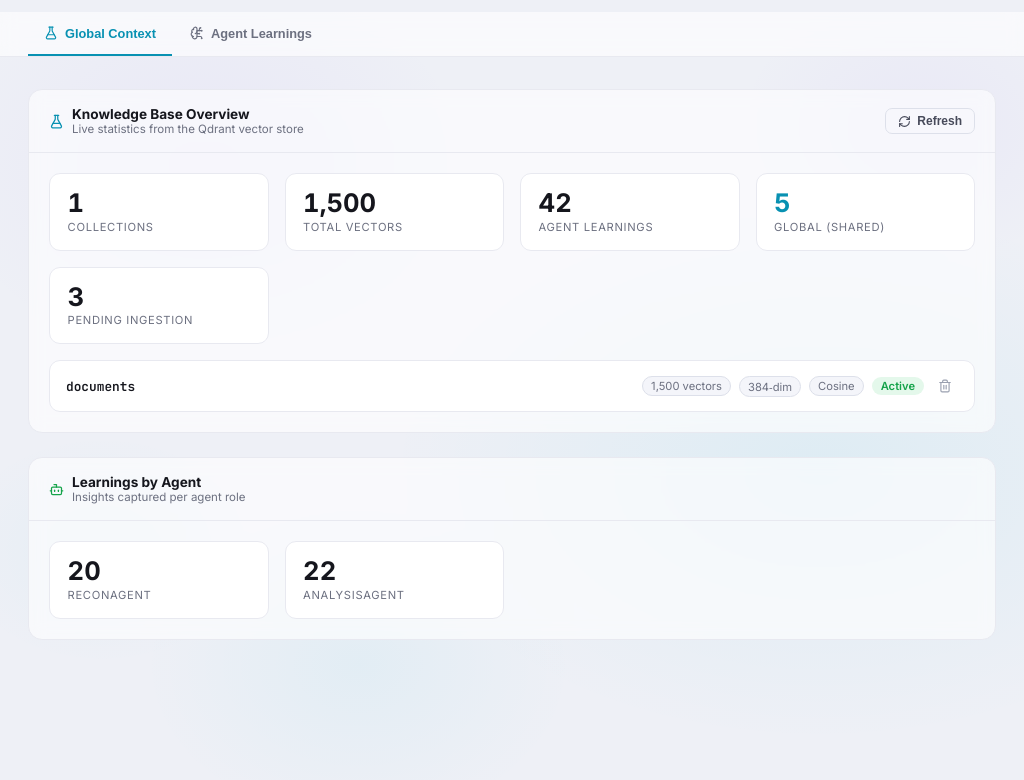
Scenario: KnowledgeBase tab switching › switches to Agent Learnings tab when clicked
The width and height of the screenshot is (1024, 780).
Step 1. Click the button "Agent Learnings" → x=251, y=34, box [174,12,328,56]
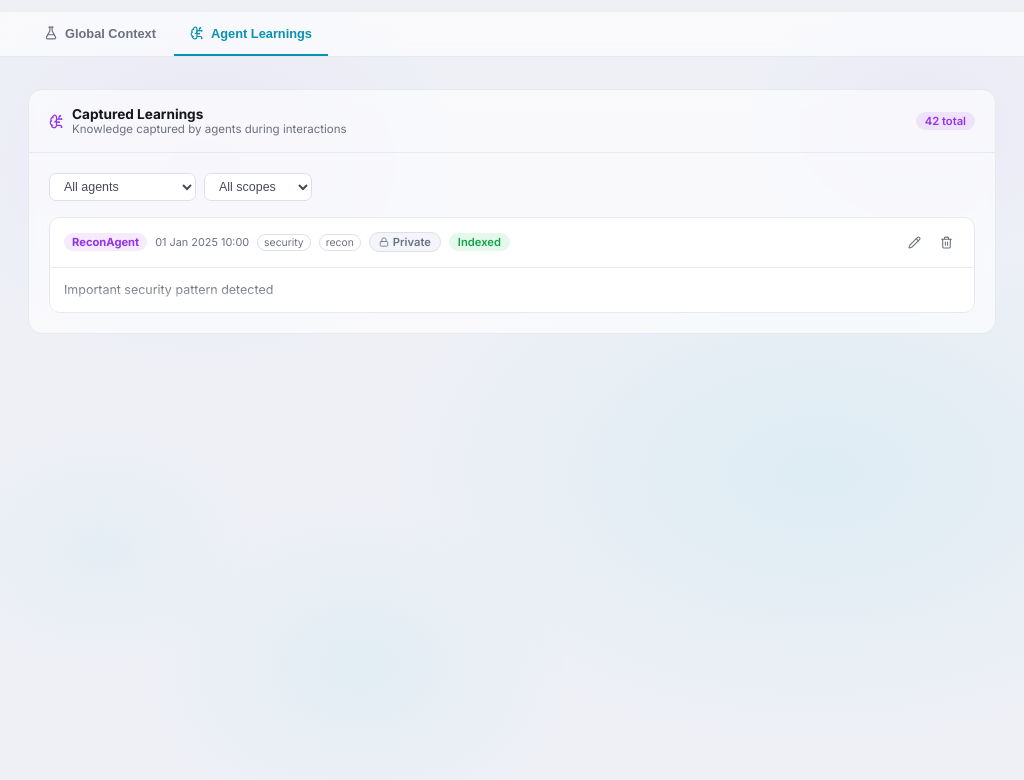
Check: the text "Captured Learnings" is shown, box [72,106,203,122]
